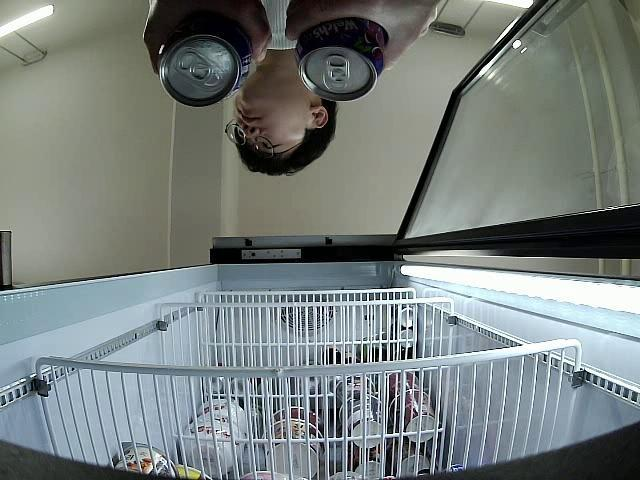14_welchsGrape: (156, 20, 253, 108), (292, 17, 389, 100)
